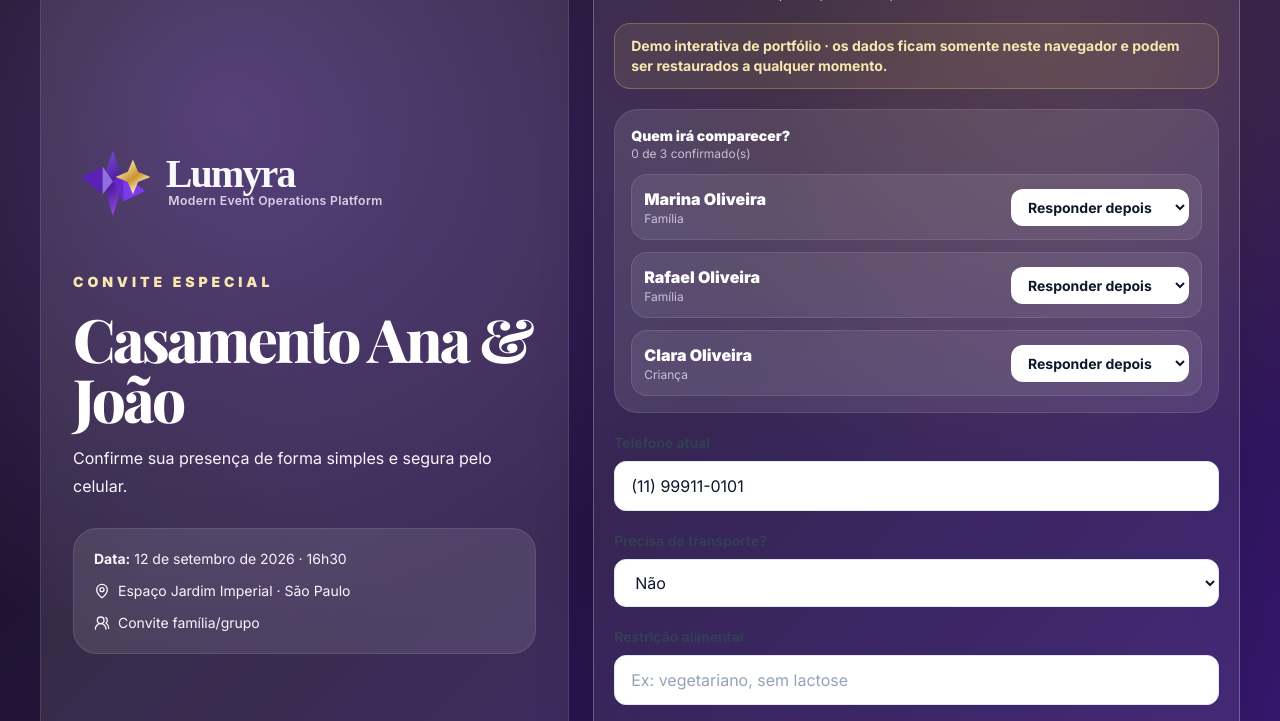
Scenario: GuestPortal › runs the portfolio invitation without a backend
The image size is (1280, 721).
Check: the heading "Casamento Ana & João" is shown, box x1=73 y1=308 x2=536 y2=428
Check: the text "os dados ficam somente neste navegador" is shown, box x1=631 y1=37 x2=1180 y2=74
Select "Confirma presença" in the dropdown named "Presença de Marina Oliveira": point(1100, 207) x1=1011 y1=188 x2=1189 y2=226
(page scrolled)
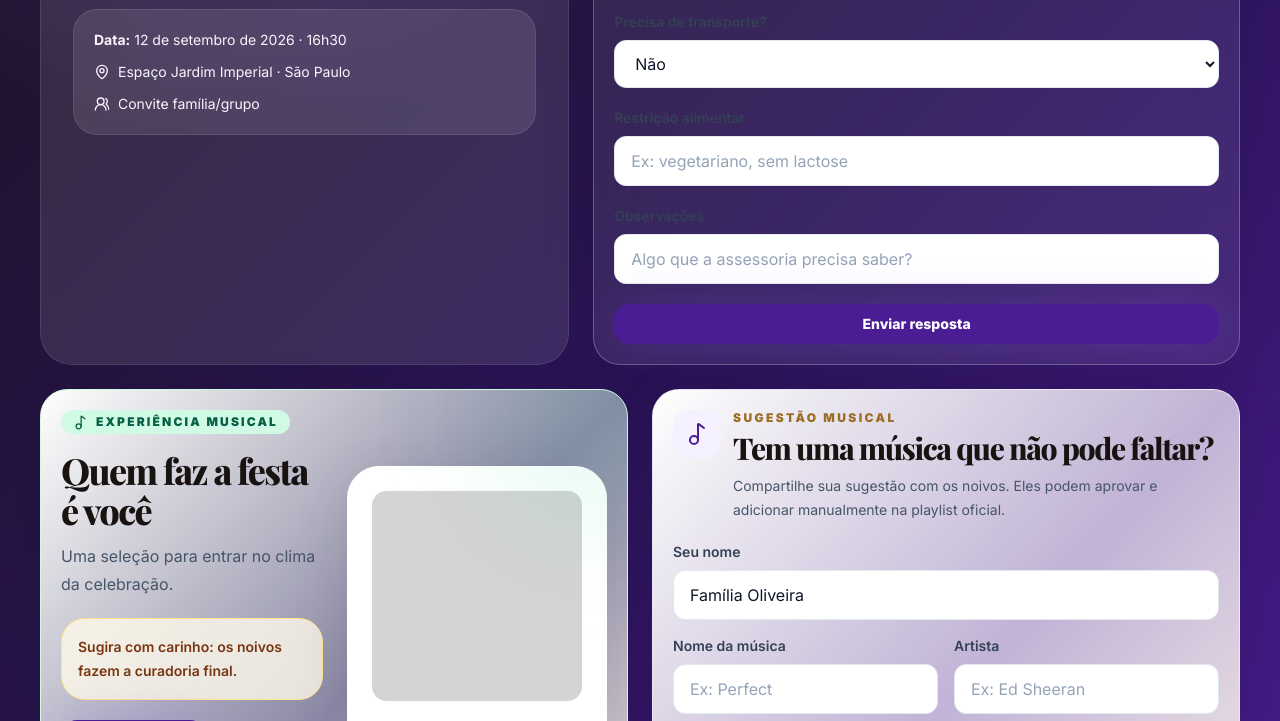
Click the button "Enviar resposta": point(917, 324) x1=614 y1=304 x2=1219 y2=344
(page scrolled)
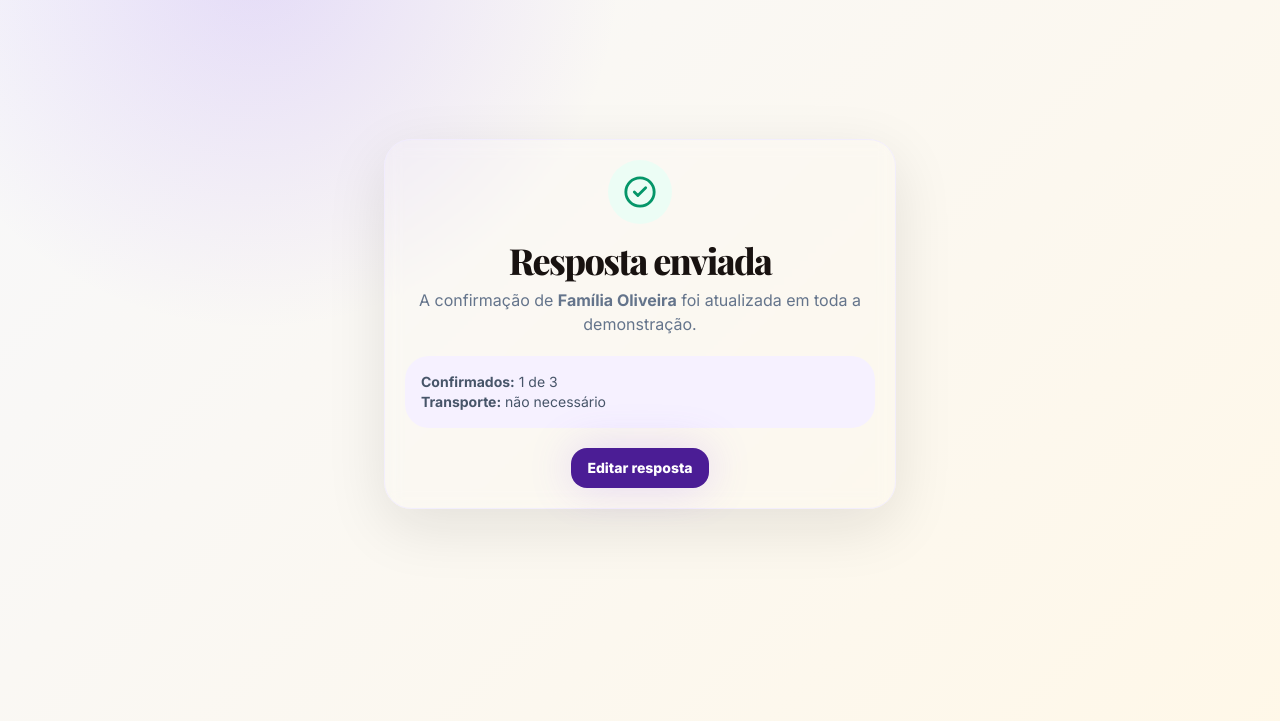
Check: the heading "Resposta enviada" is shown, box x1=509 y1=236 x2=771 y2=284
